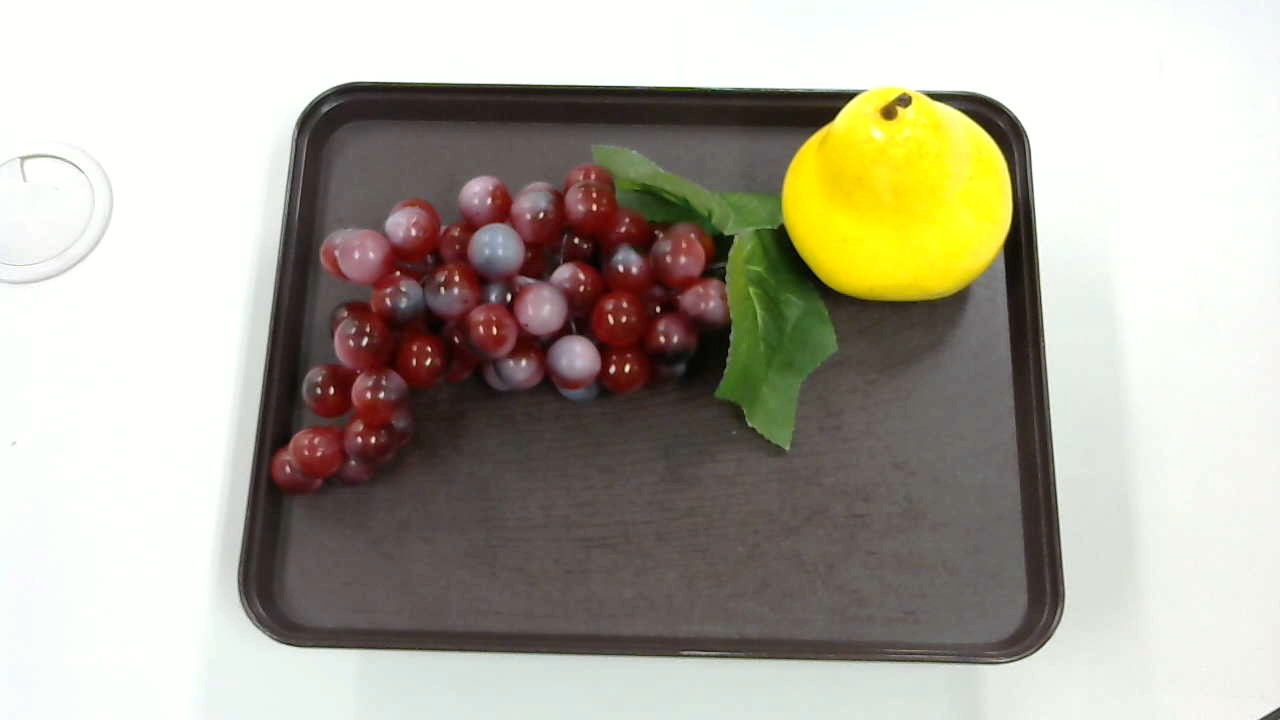grape: (262, 137, 837, 493)
yellow pear: (778, 88, 1015, 315)
